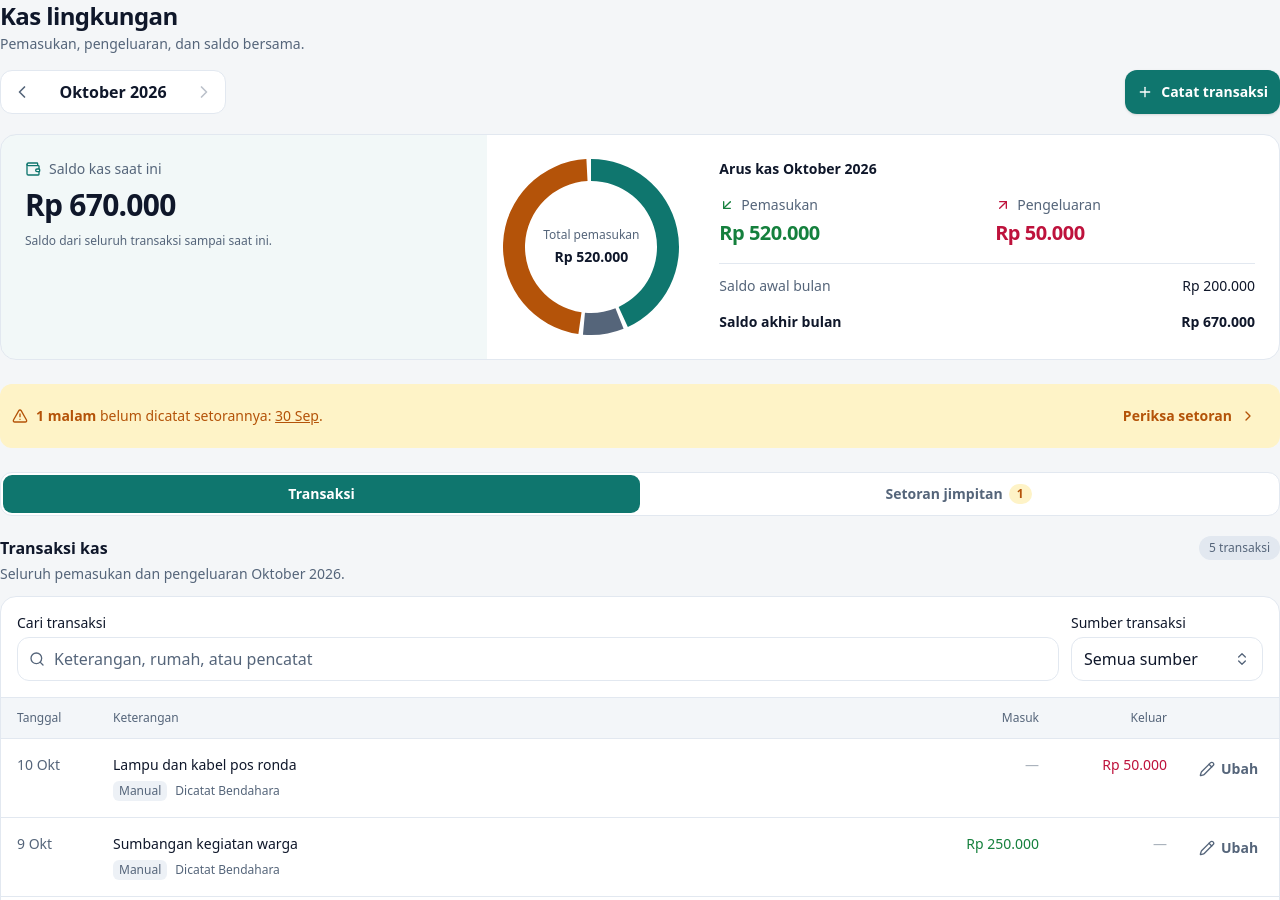
Scenario: kas lingkungan › peringatan membuka tab setoran dan navigasi bulan mempertahankan tab tersebut
The width and height of the screenshot is (1280, 900).
Check: the link to "/admin/kas?bulan=2026-09&view=deposits" is shown, box left=275, top=406, right=319, bottom=425
Click the button "Periksa setoran" at (1189, 416), box left=1111, top=394, right=1268, bottom=438
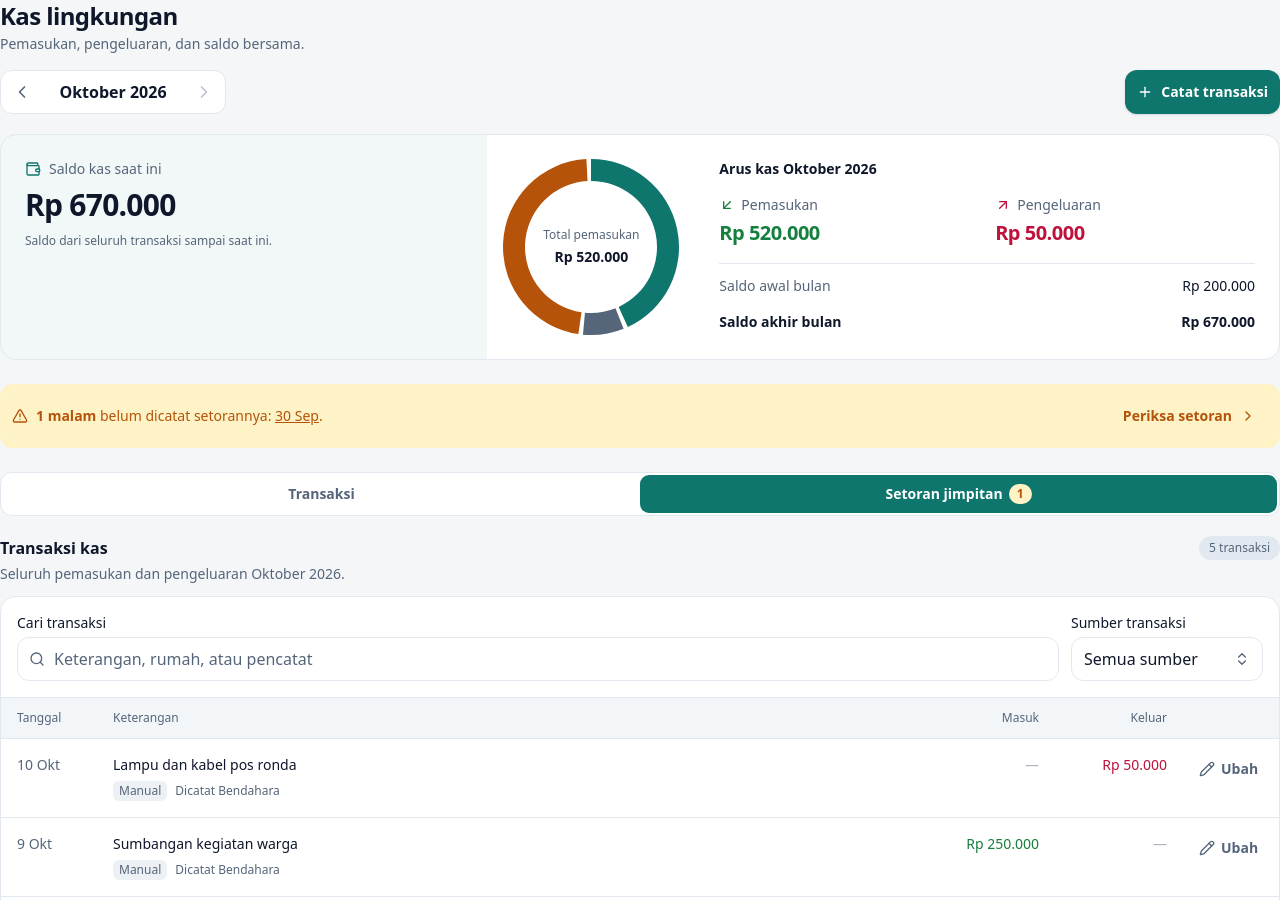
Check: the tab "Setoran jimpitan 1" is selected, box left=640, top=475, right=1277, bottom=513
Click the link named "Bulan sebelumnya (September 2026)" at (22, 92), box left=12, top=82, right=32, bottom=102
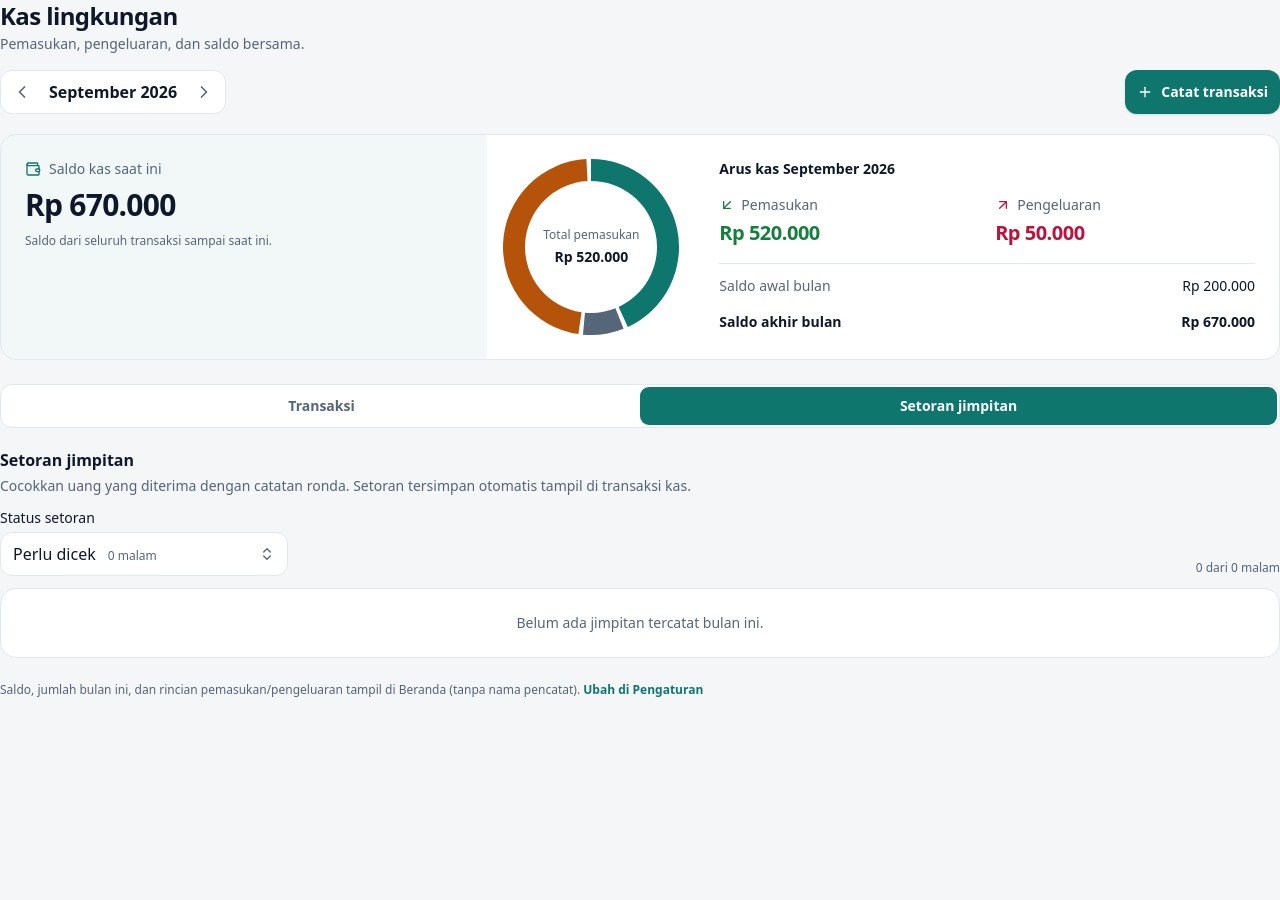
Check: the element named "Overview kas" shows "September 2026", box left=783, top=159, right=895, bottom=178
Check: the panel shows "Belum ada jimpitan tercatat bulan ini", box left=516, top=613, right=764, bottom=632
